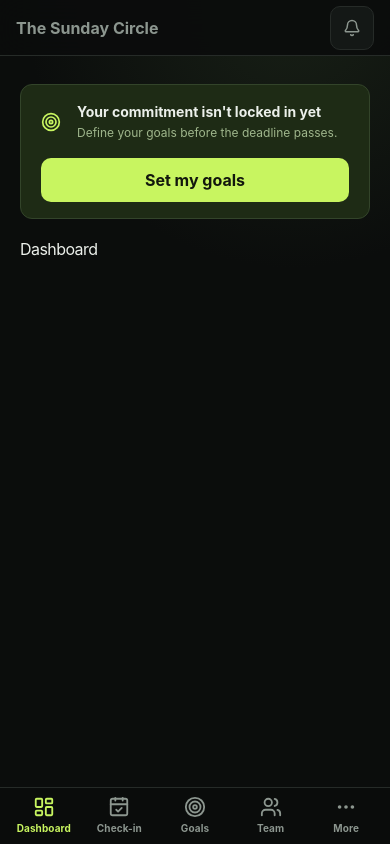
Test: app shell › keeps the check-in tab short before kick-off
The image size is (390, 844).
Expected: the link "Check-in" is shown, [97, 796, 142, 834]
Step 1. Click the button "More" → (346, 816), box [308, 792, 384, 840]
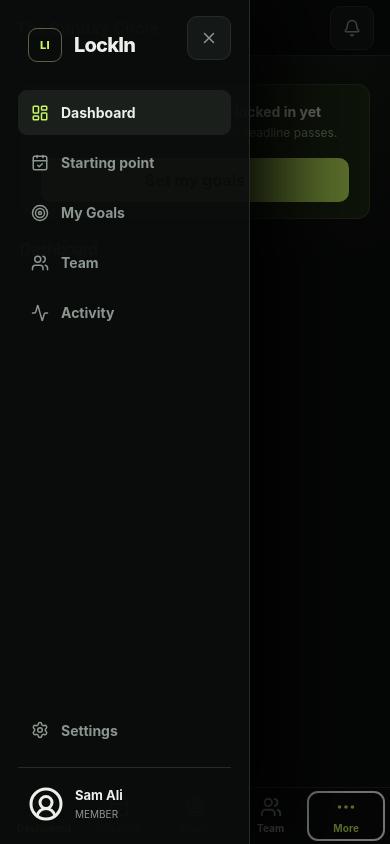
Expected: the link "Starting point" is shown, [31, 150, 154, 174]
